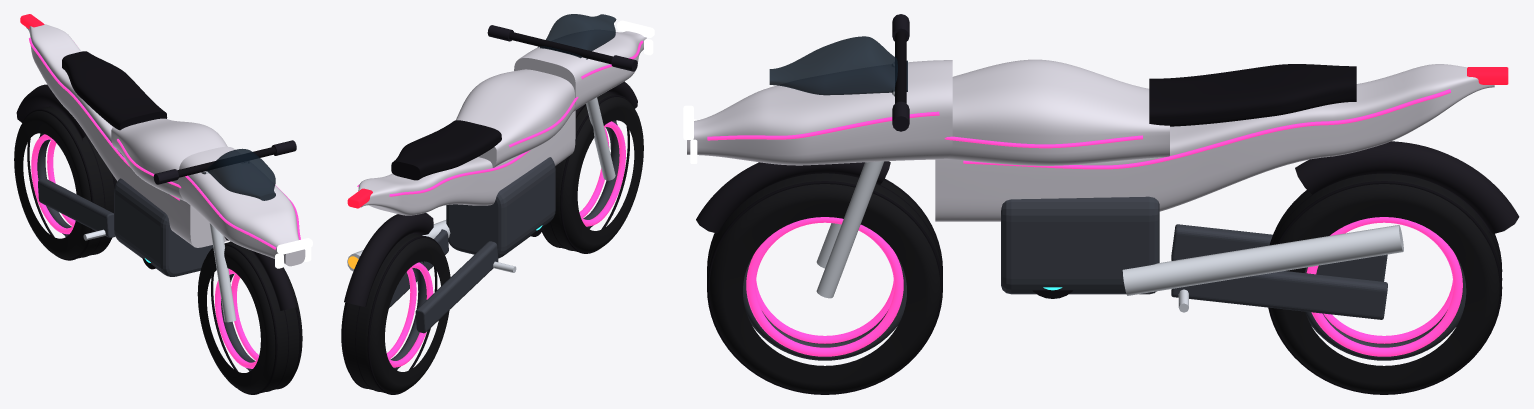
File: iskra.glb
The picture shows the model from 3 angles, left to right: view 1: azimuth 30°, elevation 25°; view 2: azimuth 150°, elevation 25°; view 3: azimuth 270°, elevation 25°; orthographic projection. The views are drawn at different scales.
Visible parts, largest first — view 1: paint, rubber (×2), gunmetal (×3), carbon (×3), glass, neon_soft (×2), paint2, chrome, neon, light_head, trim; view 2: paint, rubber (×2), gunmetal (×3), carbon (×3), paint2, neon_soft (×2), glass, chrome, neon, trim, light_head, light_tail; view 3: paint, rubber (×2), gunmetal (×3), carbon (×3), chrome, paint2, neon_soft (×2), glass, neon, trim.
Part boxes in pixels (x1=…): paint: x1=26, y1=24, x2=305, y2=266; rubber (×2): x1=14, y1=106, x2=302, y2=393; gunmetal (×3): x1=37, y1=133, x2=255, y2=370; carbon (×3): x1=23, y1=51, x2=300, y2=394; glass: x1=207, y1=148, x2=275, y2=200; neon_soft (×2): x1=31, y1=134, x2=259, y2=368; paint2: x1=16, y1=84, x2=296, y2=310; chrome: x1=83, y1=171, x2=236, y2=322; neon: x1=29, y1=37, x2=300, y2=249; light_head: x1=275, y1=238, x2=312, y2=268; trim: x1=153, y1=140, x2=296, y2=184; paint: x1=358, y1=31, x2=646, y2=215; rubber (×2): x1=341, y1=92, x2=643, y2=393; gunmetal (×3): x1=389, y1=46, x2=619, y2=369; carbon (×3): x1=343, y1=32, x2=634, y2=394; paint2: x1=344, y1=81, x2=637, y2=306; neon_soft (×2): x1=386, y1=121, x2=625, y2=367; glass: x1=539, y1=14, x2=616, y2=58; chrome: x1=347, y1=47, x2=615, y2=272; neon: x1=357, y1=40, x2=643, y2=196; trim: x1=487, y1=25, x2=637, y2=71; light_head: x1=617, y1=20, x2=654, y2=55; light_tail: x1=347, y1=188, x2=372, y2=208; paint: x1=687, y1=59, x2=1494, y2=221; rubber (×2): x1=708, y1=173, x2=1501, y2=393; gunmetal (×3): x1=743, y1=92, x2=1466, y2=360; carbon (×3): x1=707, y1=31, x2=1502, y2=394; chrome: x1=816, y1=91, x2=1403, y2=312; paint2: x1=696, y1=141, x2=1519, y2=233; neon_soft (×2): x1=746, y1=217, x2=1462, y2=356; glass: x1=769, y1=36, x2=907, y2=95; neon: x1=707, y1=89, x2=1450, y2=169; trim: x1=892, y1=14, x2=909, y2=131.
Size of the model in its own units: 0.7 by 1.1 by 2.42.
